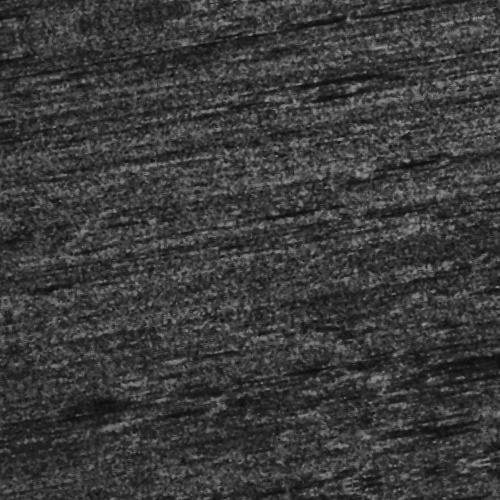object: (241, 88, 346, 97), (338, 390, 411, 399)
shadow: (375, 390, 479, 399), (294, 88, 387, 97)
